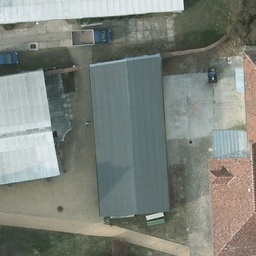car: (0, 51, 16, 67)
pickup: (69, 27, 112, 45)
